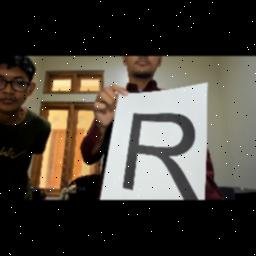r: (118, 108, 200, 200)
